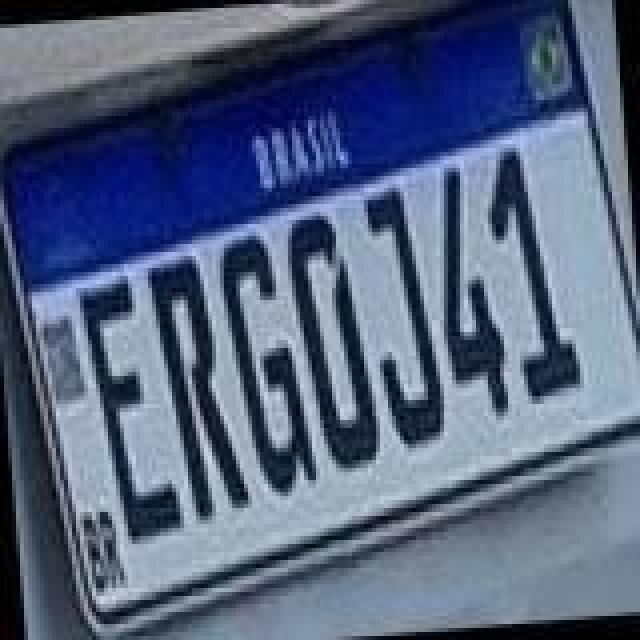1: (486, 140, 586, 404)
4: (430, 164, 514, 428)
D: (286, 210, 386, 478)
E: (72, 270, 184, 546)
G: (220, 230, 324, 498)
J: (364, 180, 452, 452)
R: (146, 254, 254, 530)
